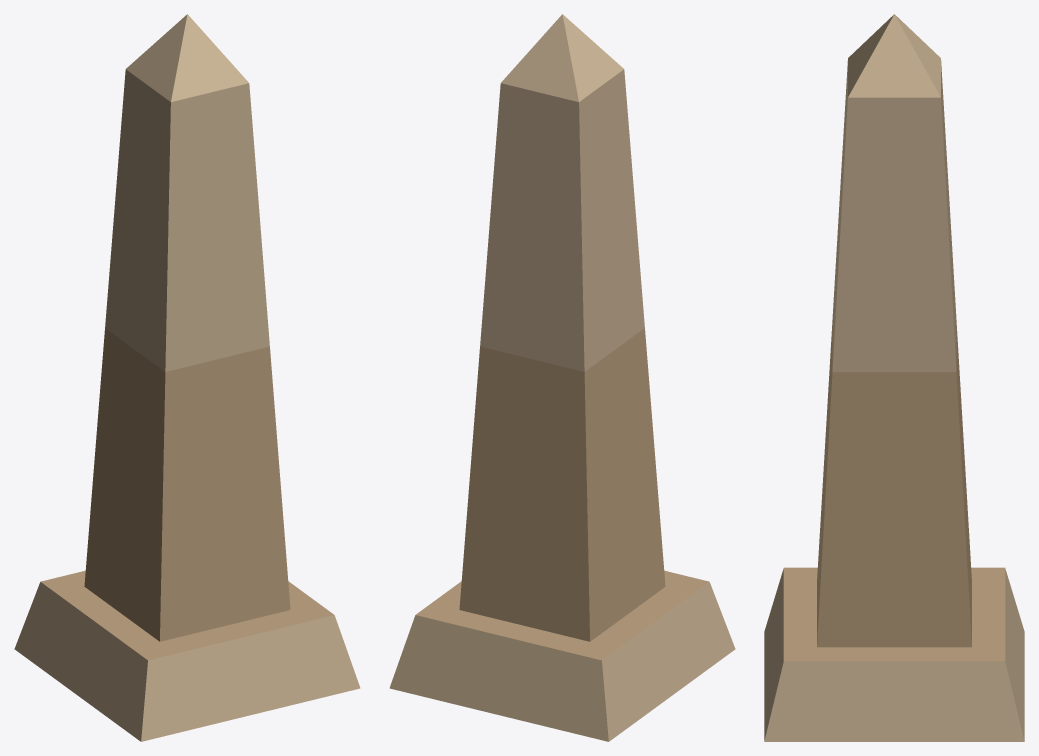
Rendered from obelisk.glb.
The picture shows the model from 3 angles, left to right: view 1: azimuth 30°, elevation 25°; view 2: azimuth 150°, elevation 25°; view 3: azimuth 270°, elevation 25°; orthographic projection. The views are drawn at different scales.
Parts seen in each view (by area): view 1: obelisk; view 2: obelisk; view 3: obelisk.
Part boxes in pixels (box(x1,y1,x2,y2)): obelisk: box(14, 14, 360, 741); obelisk: box(389, 14, 735, 741); obelisk: box(764, 14, 1024, 741).
Size of the model in its own units: 15.43 by 44 by 15.43.
